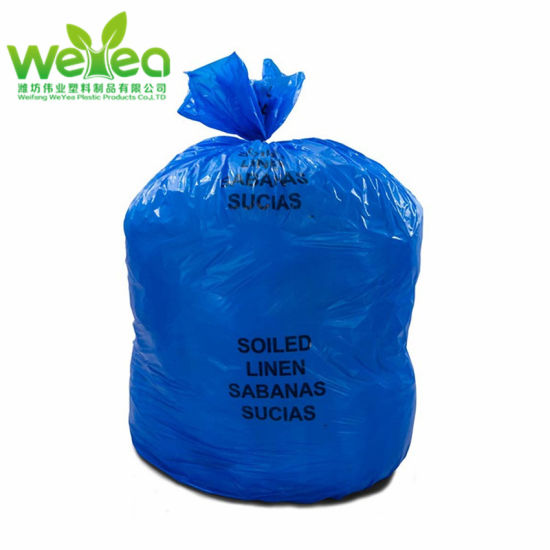plastic_bagwdw: (100, 34, 466, 537)
